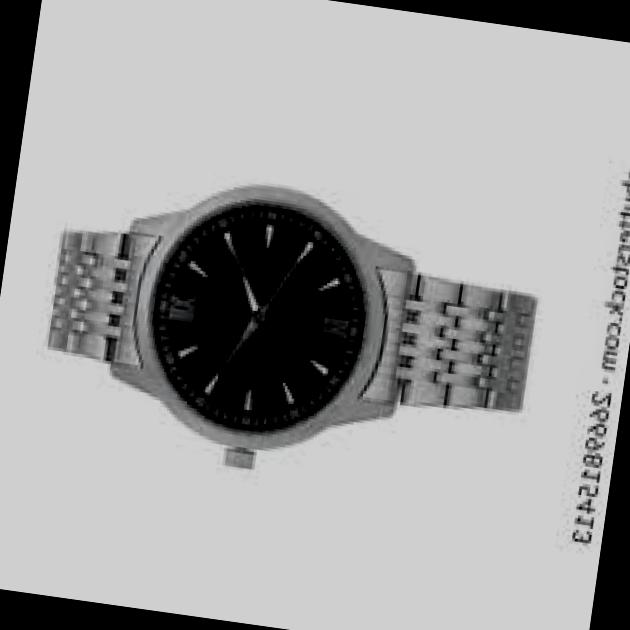wristwatch: (1, 121, 594, 567)
